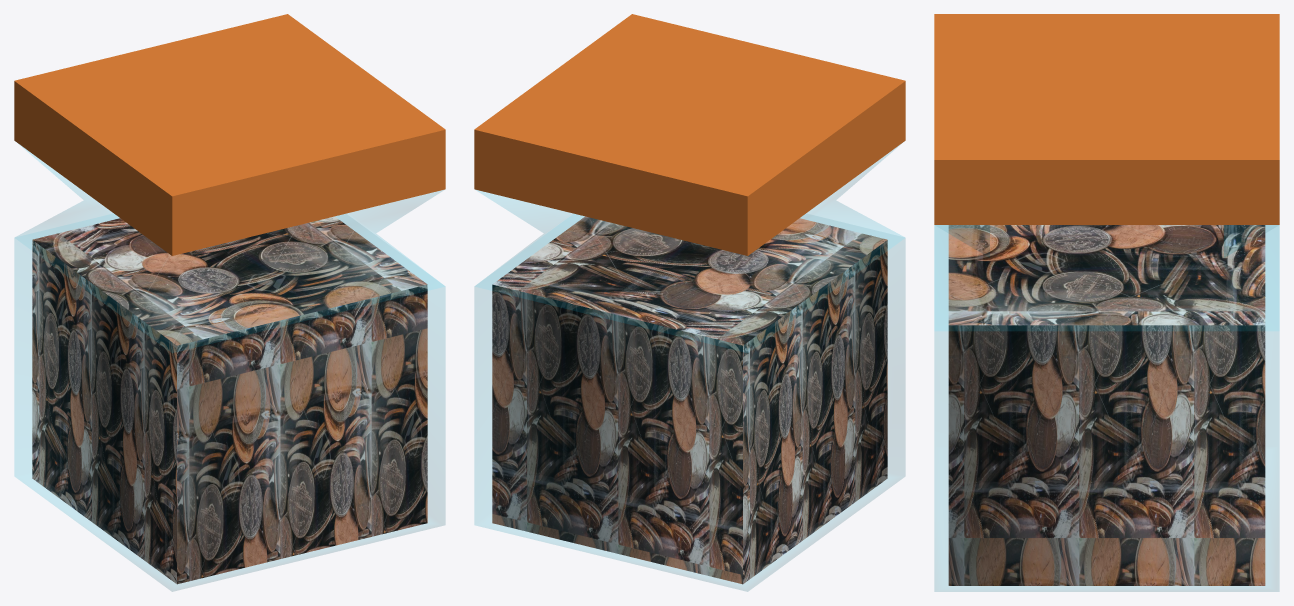
The model's file is MoneyBecher.fbx.
3 views of the same model, side by side, from view 1: azimuth 30°, elevation 25°; view 2: azimuth 150°, elevation 25°; view 3: azimuth 270°, elevation 25° (orthographic). The views are drawn at different scales.
Visible parts, largest first — view 1: MünzBecher; view 2: MünzBecher; view 3: MünzBecher.
Part boxes in pixels (x1,y1,x2,y2): MünzBecher: (14,14,445,591); MünzBecher: (474,14,905,591); MünzBecher: (934,14,1279,591).
Bounding box in the file's own units: 120 × 166 × 120.
